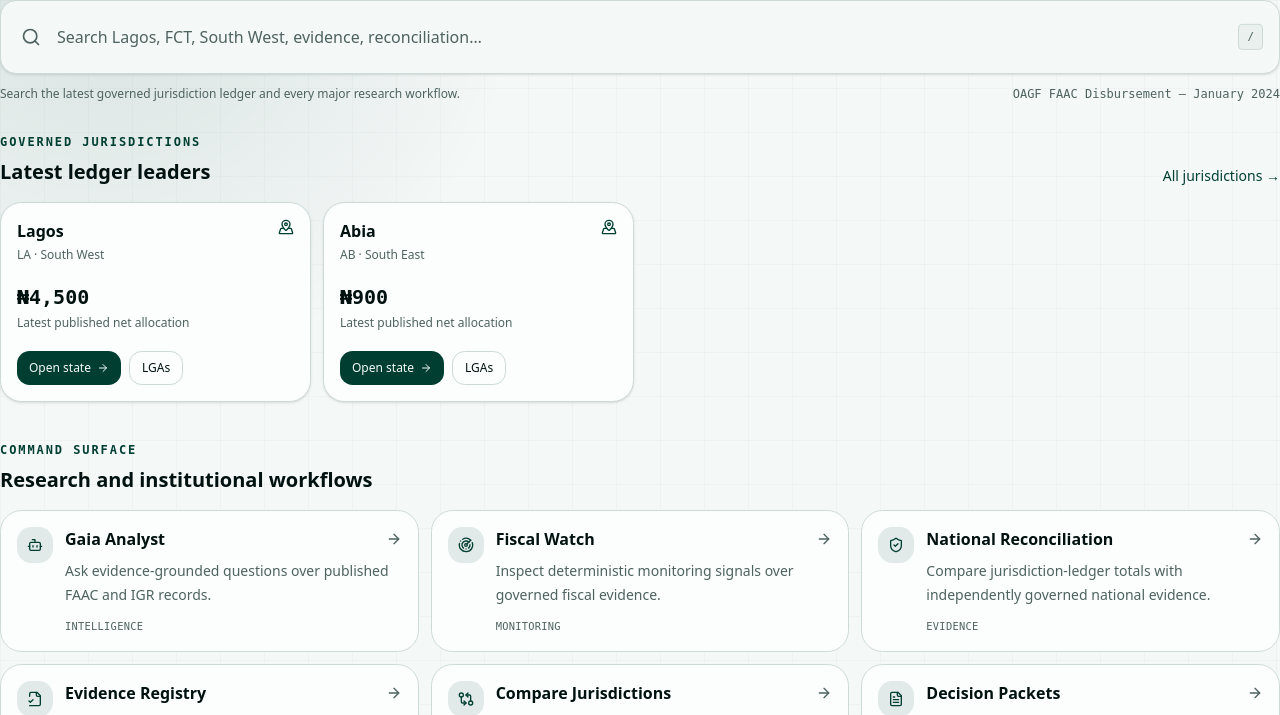
Test case: GaiaTerminalSearch › fails closed when nothing governed matches the query
Type "imaginary fiscal unicorn" into the field named "Search Gaia Terminal".
click(640, 37); type("imaginary fiscal unicorn")  # box [9, 9, 1271, 65]
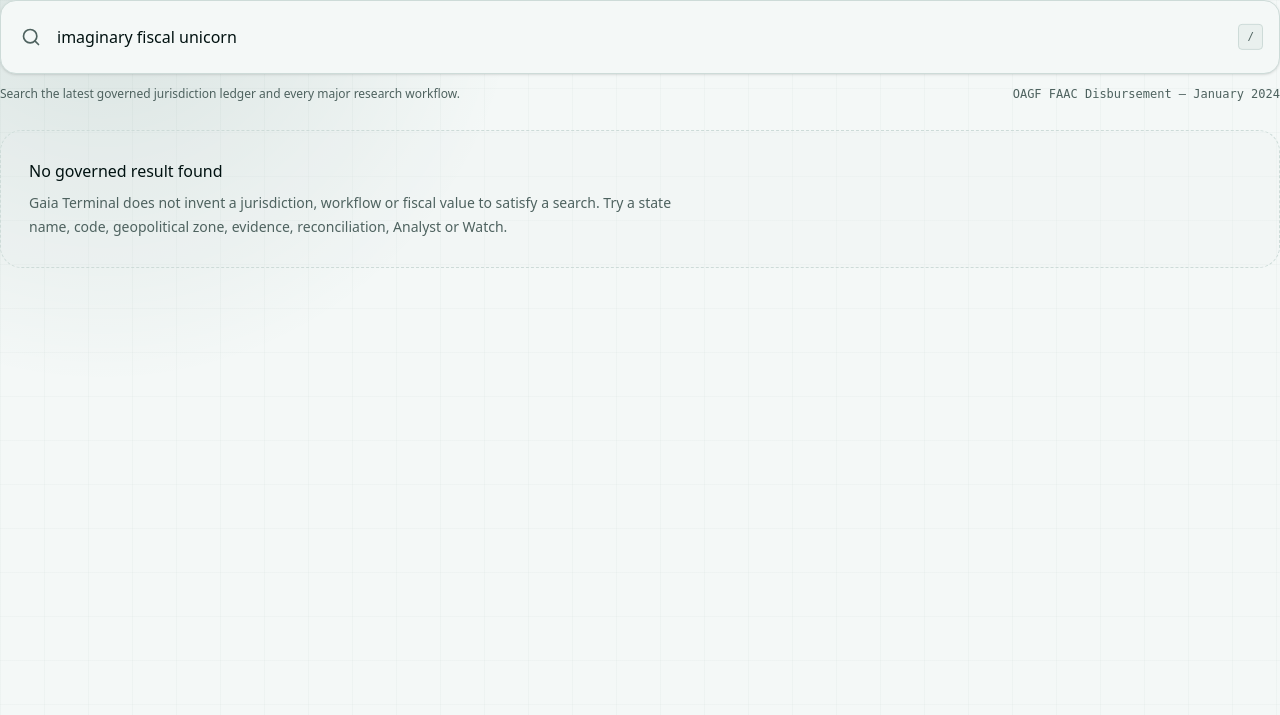
Check: the text "No governed result found" is shown, box [29, 160, 223, 182]
Check: the text "does not invent a jurisdiction, workflow or fiscal value" is shown, box [29, 193, 671, 236]
